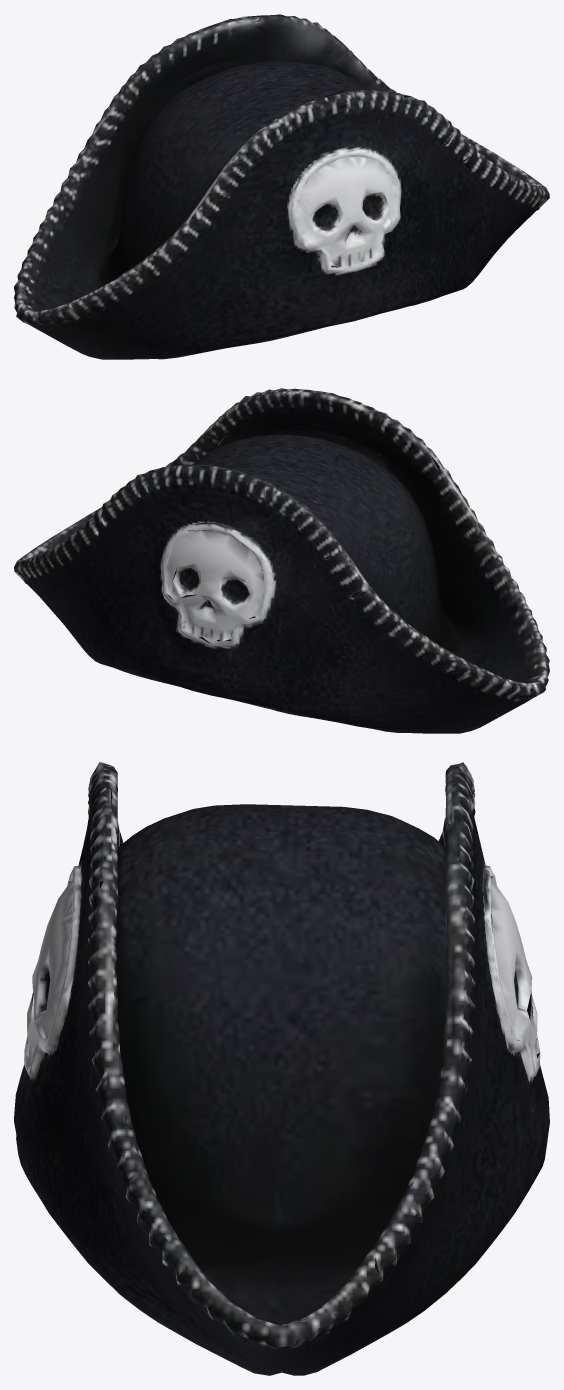
Rendered from pirate.glb.
The picture shows the model from 3 angles, top to bottom: view 1: azimuth 30°, elevation 25°; view 2: azimuth 150°, elevation 25°; view 3: azimuth 270°, elevation 25°; orthographic projection. The views are drawn at different scales.
Parts seen in each view (by area): view 1: node_0; view 2: node_0; view 3: node_0.
Part boxes in pixels (left/top/right/bottom): node_0: left=14, top=14, right=549, bottom=359; node_0: left=14, top=388, right=549, bottom=733; node_0: left=14, top=762, right=549, bottom=1375.
Size of the model in its own units: 0.5 by 0.2276 by 0.2607.
1 material, 1 textured.
